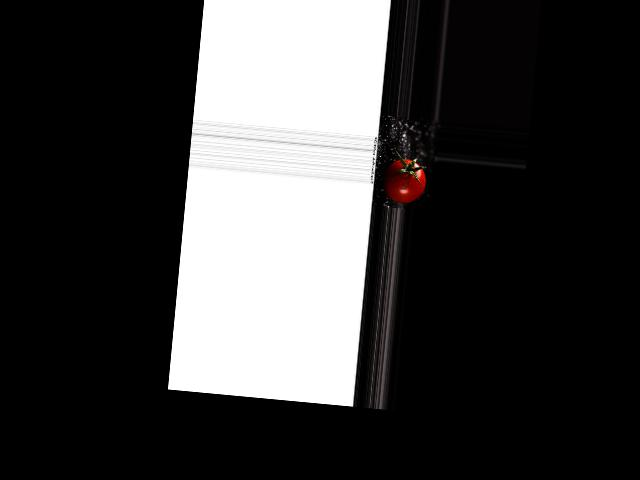tomato: (381, 157, 427, 204)
